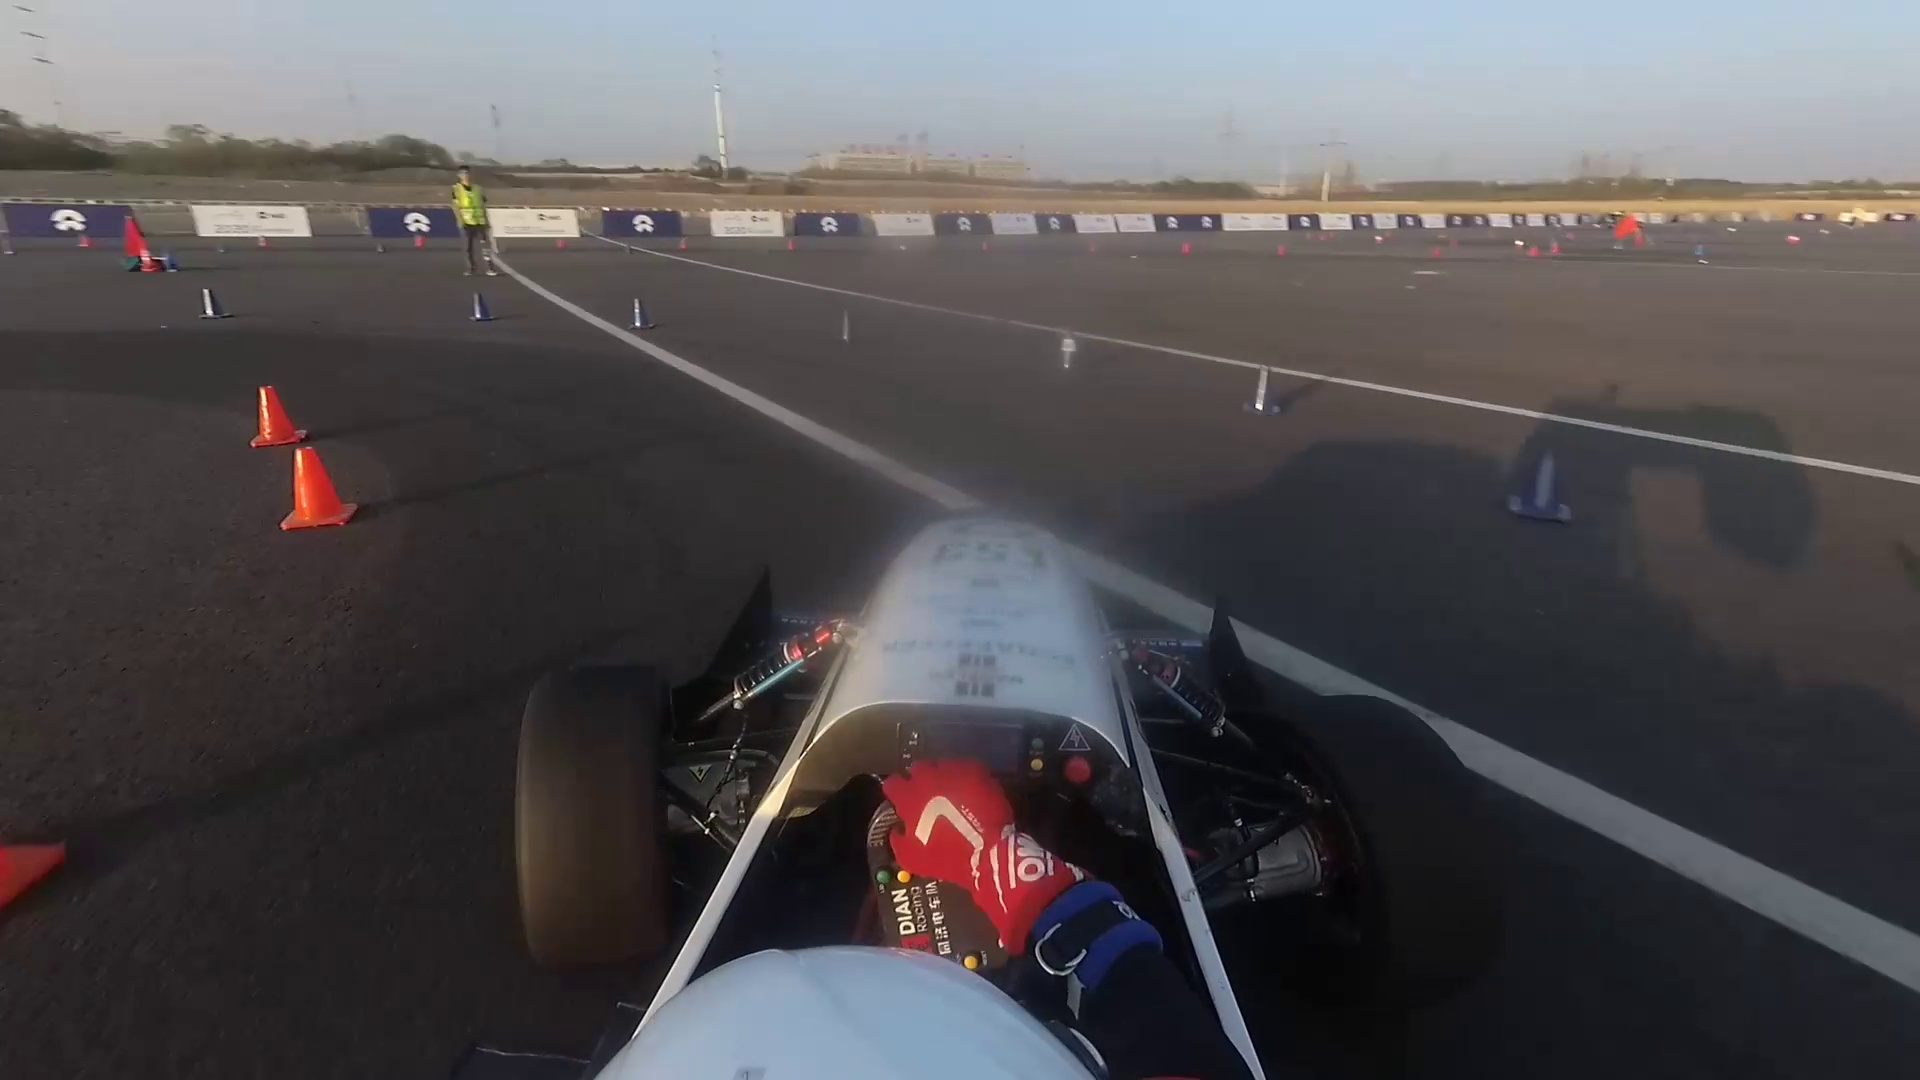blue_cone: (1506, 425, 1575, 525), (1244, 349, 1287, 427), (832, 302, 876, 355), (1055, 327, 1085, 385), (196, 280, 225, 331), (617, 291, 651, 334), (462, 289, 495, 332)
red_cone: (289, 429, 349, 559), (243, 372, 305, 455)
